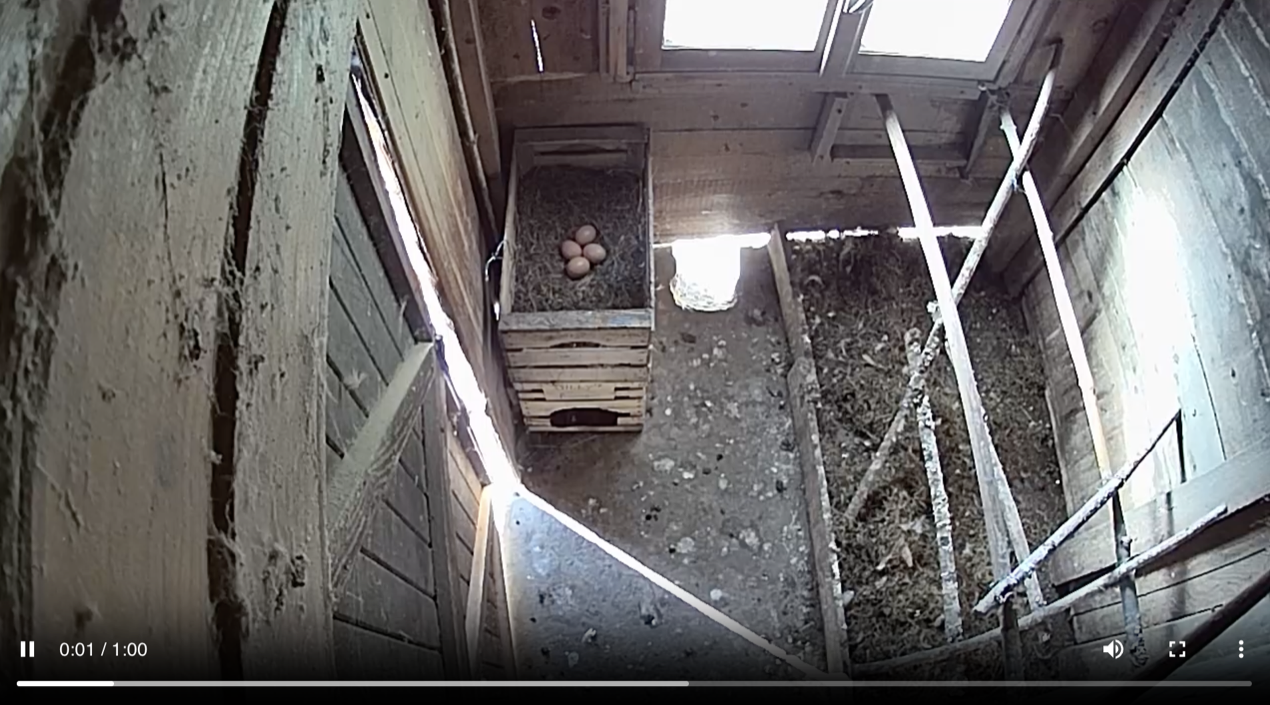egg: (571, 221, 598, 247), (581, 240, 608, 266), (563, 255, 592, 279), (557, 236, 584, 259)
